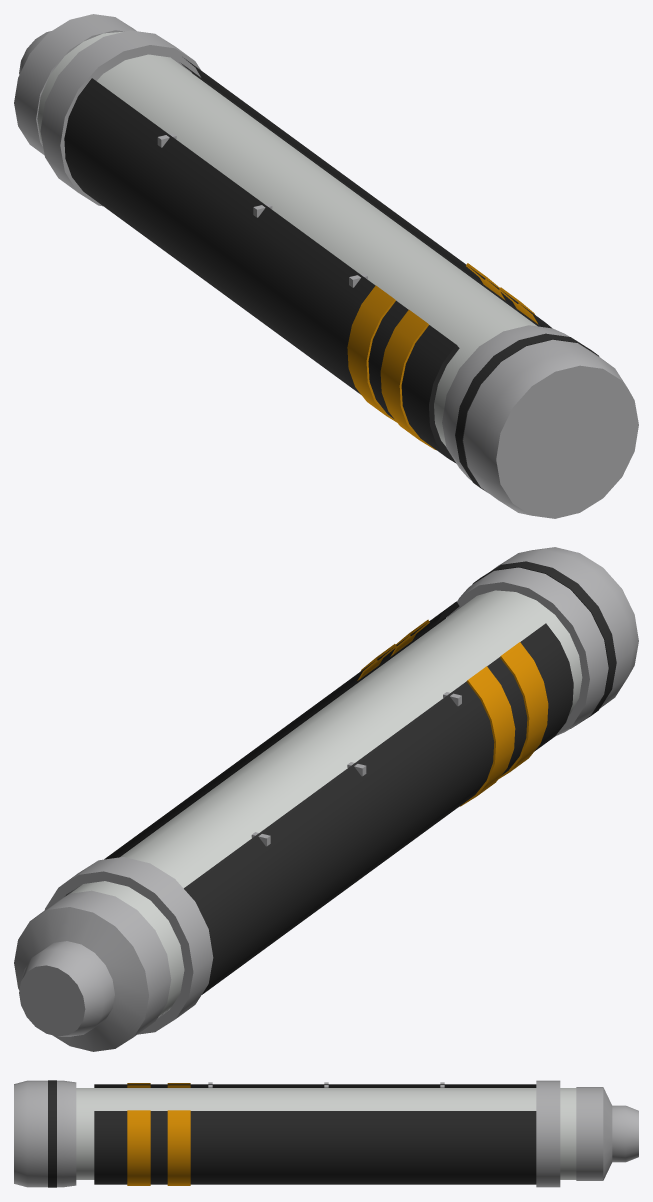
File: stim_s2.glb
3 views of the same model, one above another, from view 1: azimuth 30°, elevation 25°; view 2: azimuth 150°, elevation 25°; view 3: azimuth 270°, elevation 25° (orthographic). The views are drawn at different scales.
Parts seen in each view (by area): view 1: body; view 2: body; view 3: body.
Boxes of the visible parts, left/top/right/bottom form: body: left=14, top=14, right=638, bottom=518; body: left=14, top=547, right=638, bottom=1051; body: left=14, top=1080, right=638, bottom=1187.
Bounding box in the file's own units: 0.0121 × 0.0119 × 0.07.
